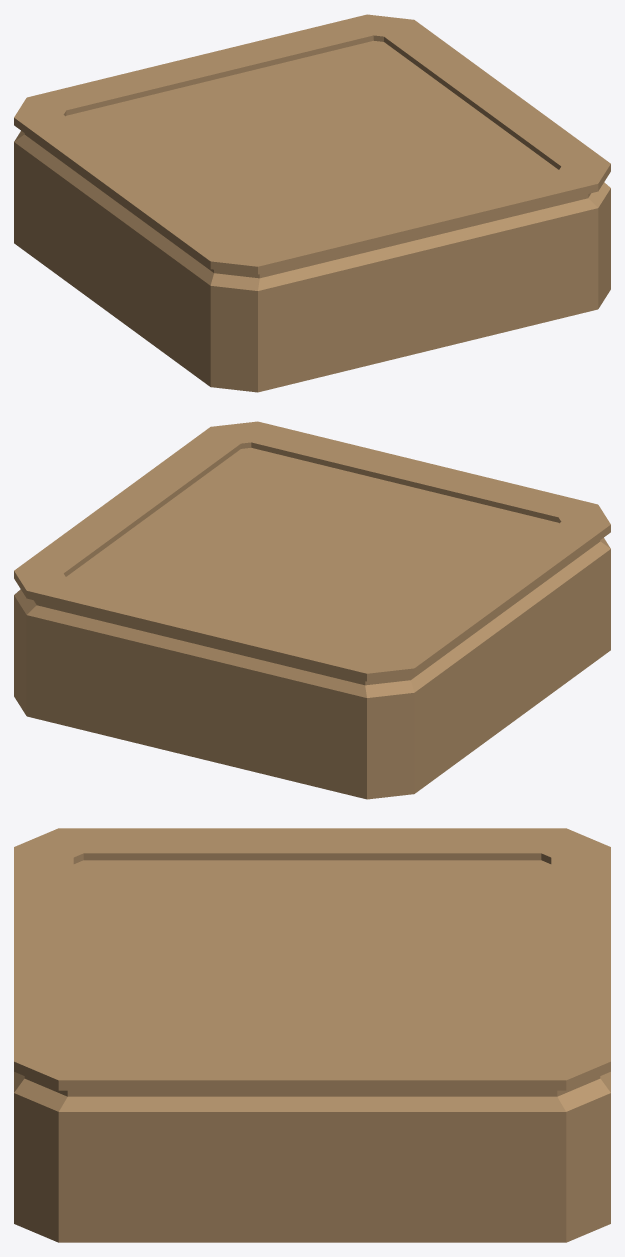
The model's file is env_prop_planter_single.glb.
The picture shows the model from 3 angles, top to bottom: view 1: azimuth 30°, elevation 25°; view 2: azimuth 150°, elevation 25°; view 3: azimuth 270°, elevation 25°; orthographic projection. The views are drawn at different scales.
Parts seen in each view (by area): view 1: Prop_Planter_Single.gltf; view 2: Prop_Planter_Single.gltf; view 3: Prop_Planter_Single.gltf.
Boxes of the visible parts, box(x1,y1,x2,y2) form: Prop_Planter_Single.gltf: box(14, 14, 610, 392); Prop_Planter_Single.gltf: box(14, 421, 610, 799); Prop_Planter_Single.gltf: box(14, 828, 610, 1242).
Bounding box in the file's own units: 2 × 0.6 × 2.
